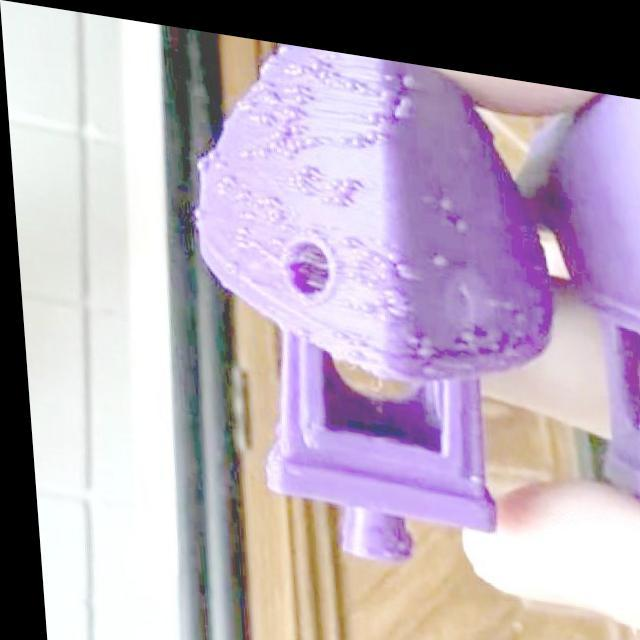zits: (374, 273, 404, 309), (330, 164, 364, 192), (389, 248, 420, 276), (262, 111, 290, 142), (422, 230, 452, 258), (408, 318, 433, 349), (430, 178, 455, 202), (390, 80, 413, 106), (287, 78, 310, 103), (291, 130, 314, 152), (288, 167, 309, 190), (364, 116, 389, 135), (316, 182, 342, 200), (398, 56, 418, 78), (355, 288, 374, 309), (231, 228, 249, 250), (334, 223, 357, 240), (344, 121, 362, 142), (192, 150, 212, 168), (244, 133, 262, 153), (275, 133, 292, 154), (339, 335, 358, 351), (232, 218, 248, 235), (209, 148, 222, 168), (362, 95, 376, 112)
